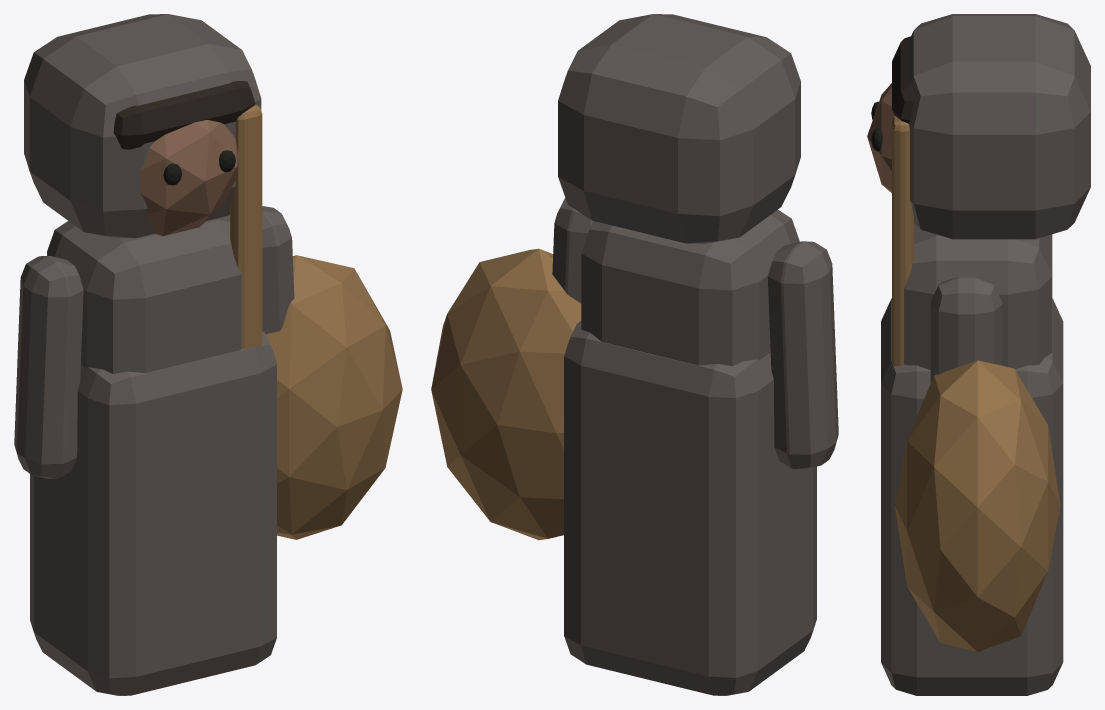
The model's file is ooteeny_4177.glb.
3 renders of one model, left to right at view 1: azimuth 30°, elevation 25°; view 2: azimuth 150°, elevation 25°; view 3: azimuth 270°, elevation 25°, orthographic. The views are drawn at different scales.
Visible parts, largest first — view 1: Layered robe, Deep hood, Collector satchel, Fitted torso, Detailed arm, Head, Satchel strap, Hair, Detailed arm.001; view 2: Layered robe, Deep hood, Collector satchel, Fitted torso, Detailed arm, Detailed arm.001; view 3: Deep hood, Collector satchel, Layered robe, Fitted torso, Detailed arm.001, Satchel strap, Head, Hair.
Part boxes in pixels (left/top/right/bottom): Layered robe: left=30, top=331, right=276, bottom=695; Deep hood: left=24, top=14, right=261, bottom=238; Collector satchel: left=266, top=255, right=402, bottom=539; Fitted torso: left=47, top=215, right=241, bottom=373; Detailed arm: left=14, top=256, right=83, bottom=478; Head: left=140, top=120, right=239, bottom=236; Satchel strap: left=230, top=104, right=262, bottom=348; Hair: left=113, top=81, right=255, bottom=149; Detailed arm.001: left=262, top=206, right=294, bottom=333; Layered robe: left=564, top=321, right=816, bottom=695; Deep hood: left=558, top=14, right=800, bottom=243; Collector satchel: left=431, top=248, right=581, bottom=540; Fitted torso: left=581, top=210, right=799, bottom=366; Detailed arm: left=767, top=241, right=838, bottom=469; Detailed arm.001: left=552, top=198, right=593, bottom=303; Deep hood: left=908, top=14, right=1090, bottom=239; Collector satchel: left=894, top=360, right=1060, bottom=651; Layered robe: left=881, top=298, right=1063, bottom=695; Fitted torso: left=904, top=223, right=1052, bottom=369; Detailed arm.001: left=930, top=277, right=1002, bottom=382; Satchel strap: left=892, top=115, right=913, bottom=366; Head: left=867, top=83, right=894, bottom=192; Hair: left=892, top=36, right=914, bottom=123.
Size of the model in its own units: 1.6 by 2.5 by 0.81.
